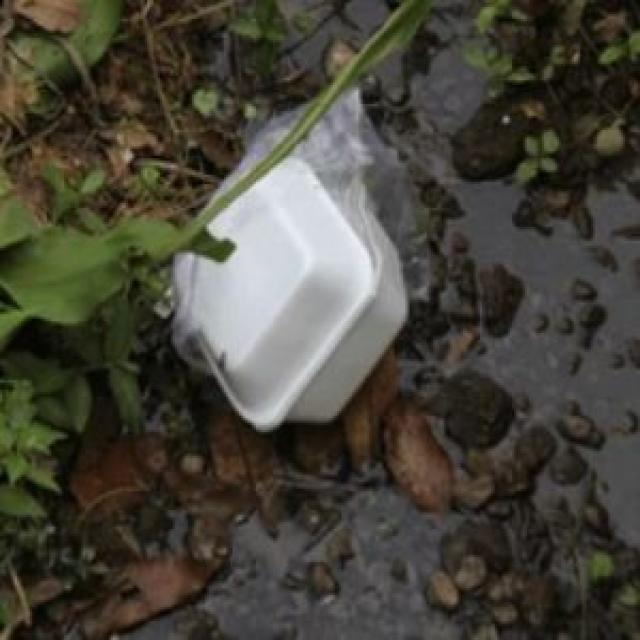electronic: (164, 83, 425, 432)
